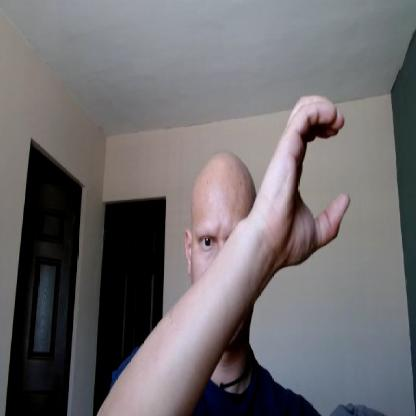C: (265, 94, 352, 266)
